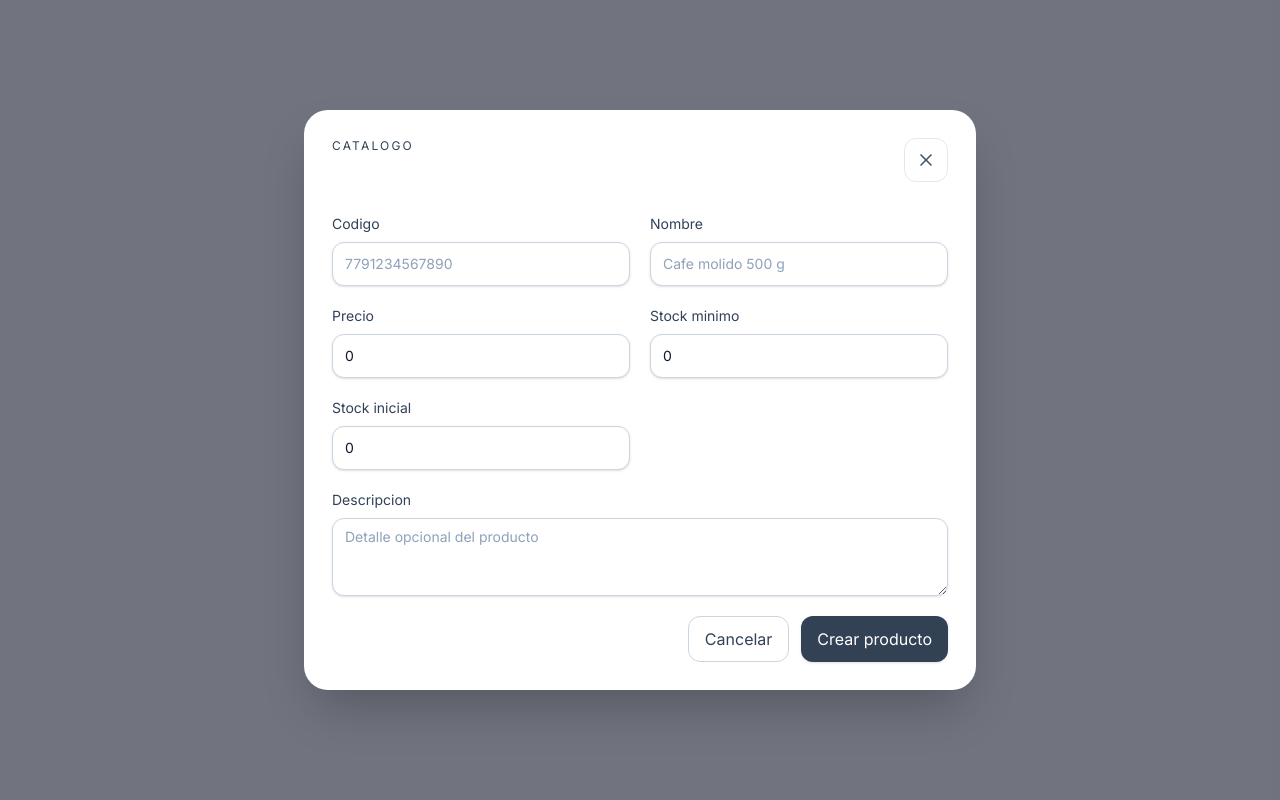
ProductForm › validates required fields before submitting
The width and height of the screenshot is (1280, 800).
Click the button "Crear producto" at (875, 639), box [801,616,948,662]
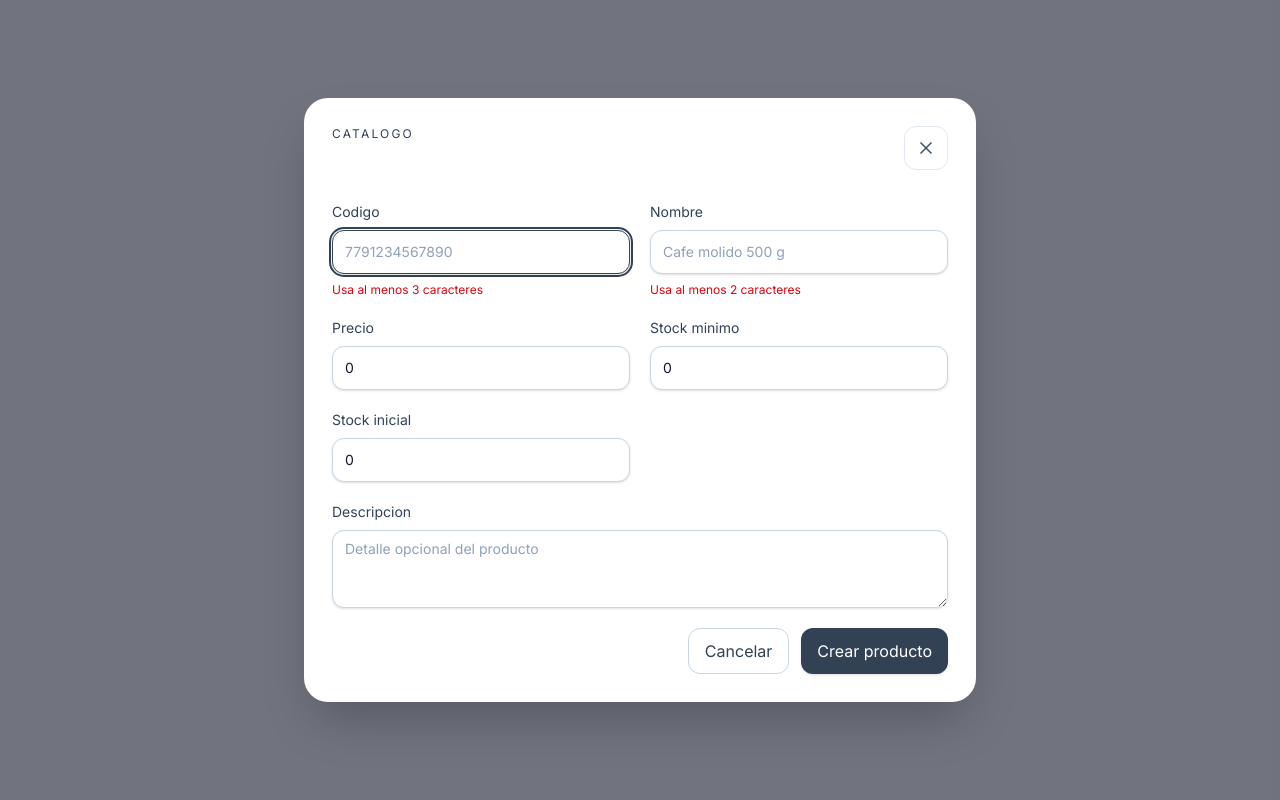
Check: the text "Usa al menos 3 caracteres" is shown, box [332,282,483,297]
